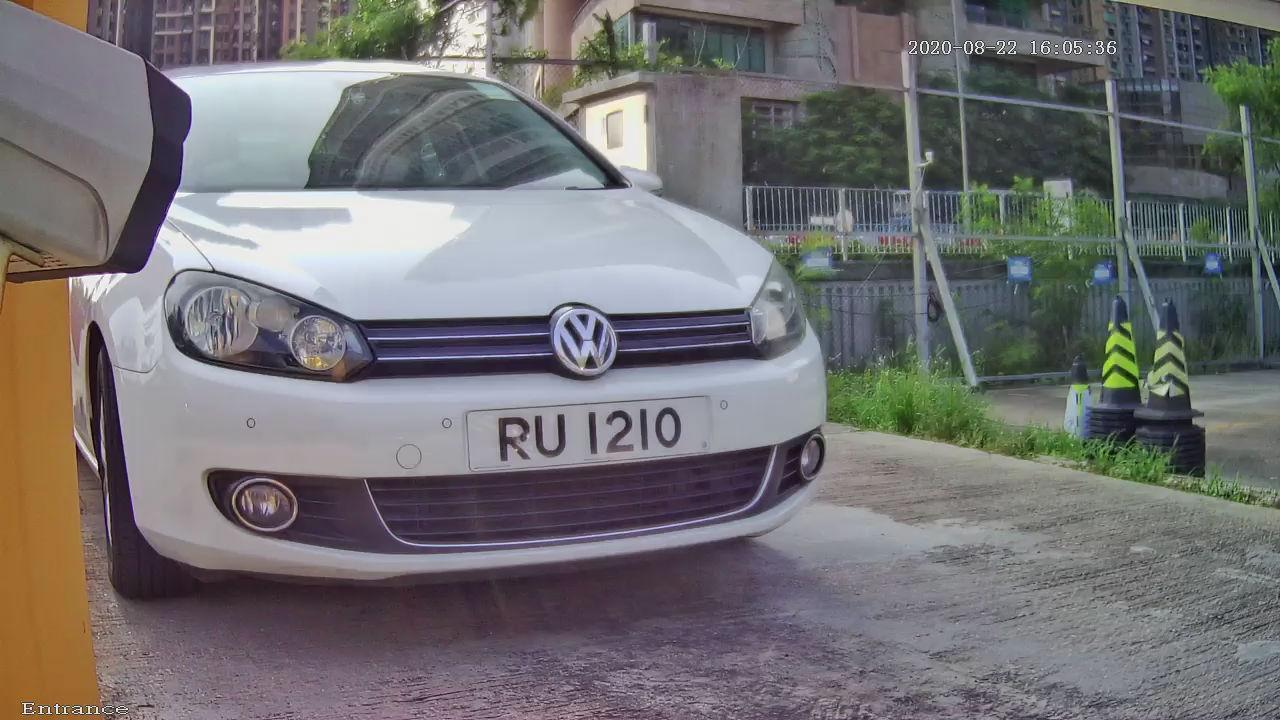Car: (18, 17, 898, 631)
License Plate: (442, 362, 746, 497)
